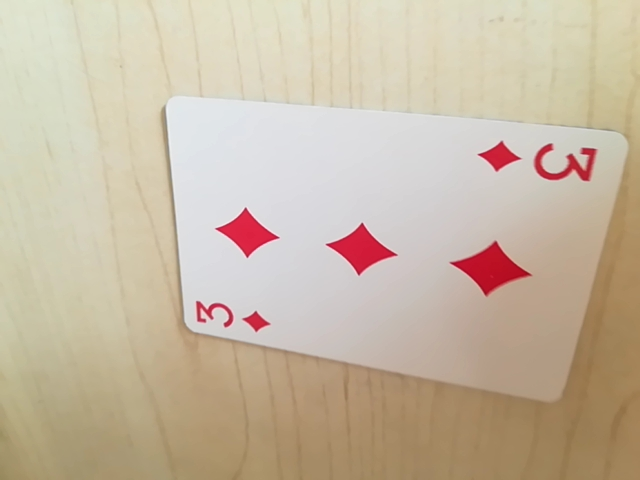fk 3: (474, 135, 598, 188), (192, 295, 277, 335)
